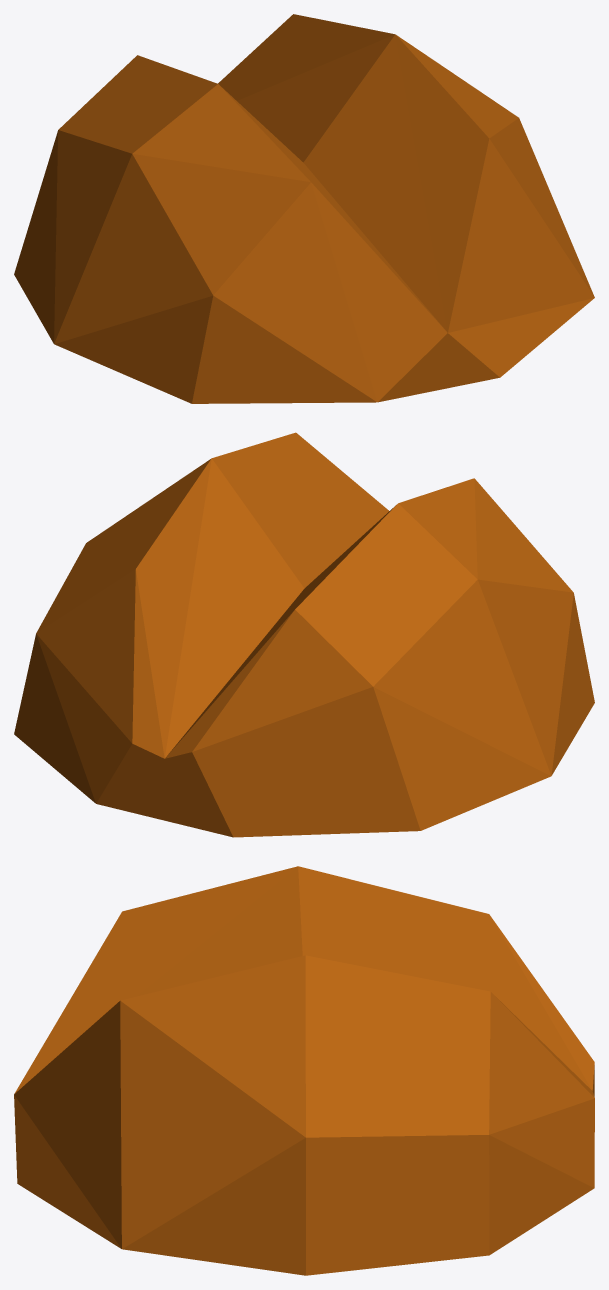
Rendered from HalfWalnut.obj.
3 views of the same model, one above another, from view 1: azimuth 30°, elevation 25°; view 2: azimuth 150°, elevation 25°; view 3: azimuth 270°, elevation 25° (orthographic). The views are drawn at different scales.
Visible parts, largest first — view 1: Cylinder; view 2: Cylinder; view 3: Cylinder.
Part boxes in pixels (x1=…): Cylinder: x1=14, y1=14, x2=594, y2=403; Cylinder: x1=14, y1=432, x2=594, y2=837; Cylinder: x1=14, y1=866, x2=594, y2=1275.
Size of the model in its own units: 0.0424 by 0.0196 by 0.042.
